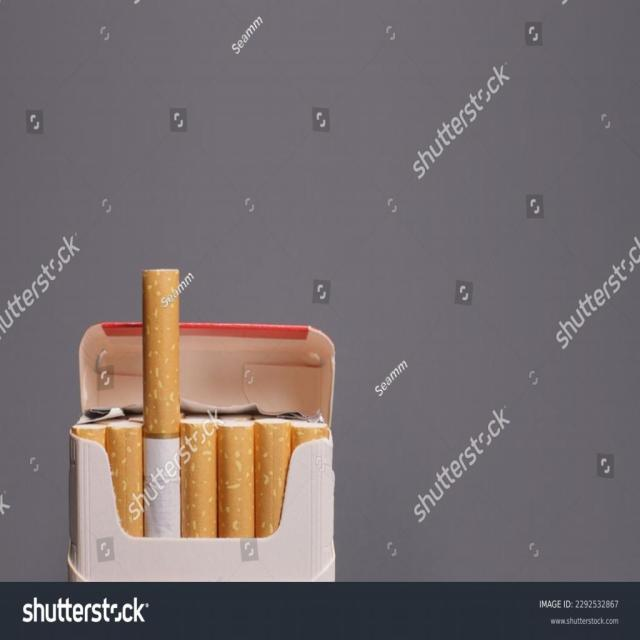smoking: (66, 269, 335, 582)
